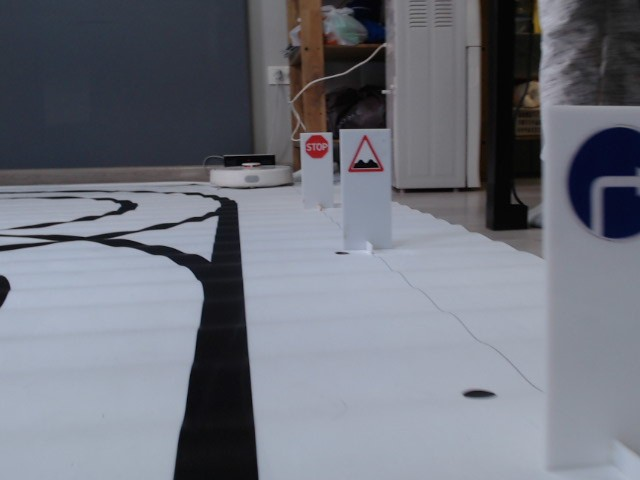Nerov: (347, 136, 384, 172)
Stop: (304, 136, 330, 158)
